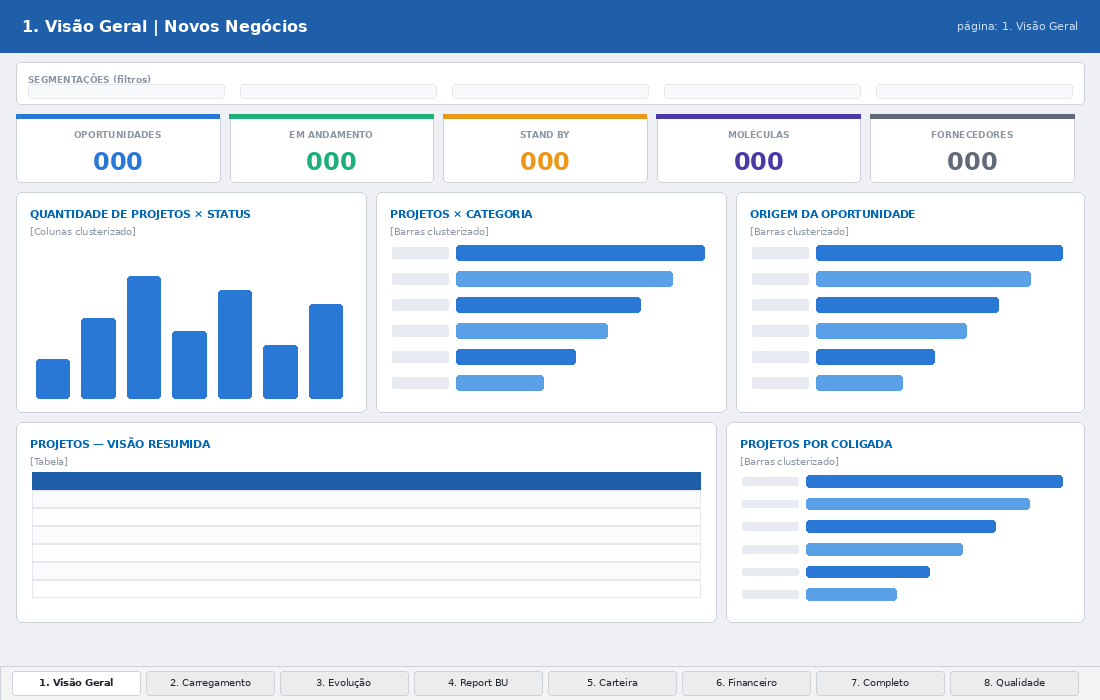

What the dashboard file says about the page in this screenshot:
{"tool":"powerbi","page":{"name":"1. Visão Geral","canvas":[1280,720],"ordinal":0},"visuals":[{"type":"shape","box":[0,0,1280,48],"z":-2},{"type":"textbox","box":[20,6,780,34],"z":-1},{"type":"textbox","box":[820,14,444,24],"z":-1},{"type":"slicer","fields":{"Values":["Equipe.Nome"]},"box":[16,56,240,40],"z":0},{"type":"slicer","fields":{"Values":["Unidade de Negócio.Unidade de Negócio"]},"box":[268,56,240,40],"z":0},{"type":"slicer","fields":{"Values":["Mapeamento.Situação"]},"box":[520,56,240,40],"z":0},{"type":"slicer","fields":{"Values":["Status NN.Status"]},"box":[772,56,240,40],"z":0},{"type":"slicer","fields":{"Values":["Calendário.Ano"]},"box":[1024,56,240,40],"z":0},{"type":"card","title":"OPORTUNIDADES","fields":{"Values":["_Medidas.Projetos"]},"box":[16,104,240,72],"z":0},{"type":"card","title":"EM ANDAMENTO","fields":{"Values":["_Medidas.Projetos Ativos"]},"box":[268,104,240,72],"z":0},{"type":"card","title":"STAND BY","fields":{"Values":["_Medidas.Projetos Stand by"]},"box":[520,104,240,72],"z":0},{"type":"card","title":"MOLÉCULAS","fields":{"Values":["_Medidas.Moléculas"]},"box":[772,104,240,72],"z":0},{"type":"card","title":"FORNECEDORES","fields":{"Values":["_Medidas.Fornecedores"]},"box":[1024,104,240,72],"z":0},{"type":"clusteredColumnChart","title":"QUANTIDADE DE PROJETOS x STATUS","fields":{"Category":["Status NN.Status"],"Y":["_Medidas.Projetos"]},"box":[16,184,408,215],"z":0},{"type":"clusteredBarChart","title":"PROJETOS x CATEGORIA","fields":{"Category":["Mapeamento.Categoria Padrão"],"Y":["_Medidas.Projetos"]},"box":[436,184,408,215],"z":0},{"type":"clusteredBarChart","title":"ORIGEM DA OPORTUNIDADE","fields":{"Category":["Mapeamento.Entrada"],"Y":["_Medidas.Projetos"]},"box":[856,184,408,215],"z":0},{"type":"tableEx","title":"PROJETOS — VISÃO RESUMIDA","fields":{"Values":["Mapeamento.Responsável Final","Mapeamento.Molécula","Mapeamento.Fornecedor / Parceiro","Mapeamento.Status NN","Mapeamento.Situação","Mapeamento.Alerta"]},"box":[16,407,830,290],"z":0},{"type":"clusteredBarChart","title":"PROJETOS POR COLIGADA","fields":{"Category":["Mapeamento.Coligada Padrão"],"Y":["_Medidas.Projetos"]},"box":[858,407,406,290],"z":0}]}

Visuals, with their boxes on the page's 1280x720 design canvas (x1, y1, x2, y2). These are canvas units, not pixel positions in the 1100x700 screenshot, which may show the page scaled, cropped or inside an application window:
shape: (left=0, top=0, right=1280, bottom=48)
textbox: (left=20, top=6, right=800, bottom=40)
textbox: (left=820, top=14, right=1264, bottom=38)
slicer - Equipe.Nome: (left=16, top=56, right=256, bottom=96)
slicer - Unidade de Negócio.Unidade de Negócio: (left=268, top=56, right=508, bottom=96)
slicer - Mapeamento.Situação: (left=520, top=56, right=760, bottom=96)
slicer - Status NN.Status: (left=772, top=56, right=1012, bottom=96)
slicer - Calendário.Ano: (left=1024, top=56, right=1264, bottom=96)
"OPORTUNIDADES" card: (left=16, top=104, right=256, bottom=176)
"EM ANDAMENTO" card: (left=268, top=104, right=508, bottom=176)
"STAND BY" card: (left=520, top=104, right=760, bottom=176)
"MOLÉCULAS" card: (left=772, top=104, right=1012, bottom=176)
"FORNECEDORES" card: (left=1024, top=104, right=1264, bottom=176)
"QUANTIDADE DE PROJETOS x STATUS" clusteredColumnChart: (left=16, top=184, right=424, bottom=399)
"PROJETOS x CATEGORIA" clusteredBarChart: (left=436, top=184, right=844, bottom=399)
"ORIGEM DA OPORTUNIDADE" clusteredBarChart: (left=856, top=184, right=1264, bottom=399)
"PROJETOS — VISÃO RESUMIDA" tableEx: (left=16, top=407, right=846, bottom=697)
"PROJETOS POR COLIGADA" clusteredBarChart: (left=858, top=407, right=1264, bottom=697)
